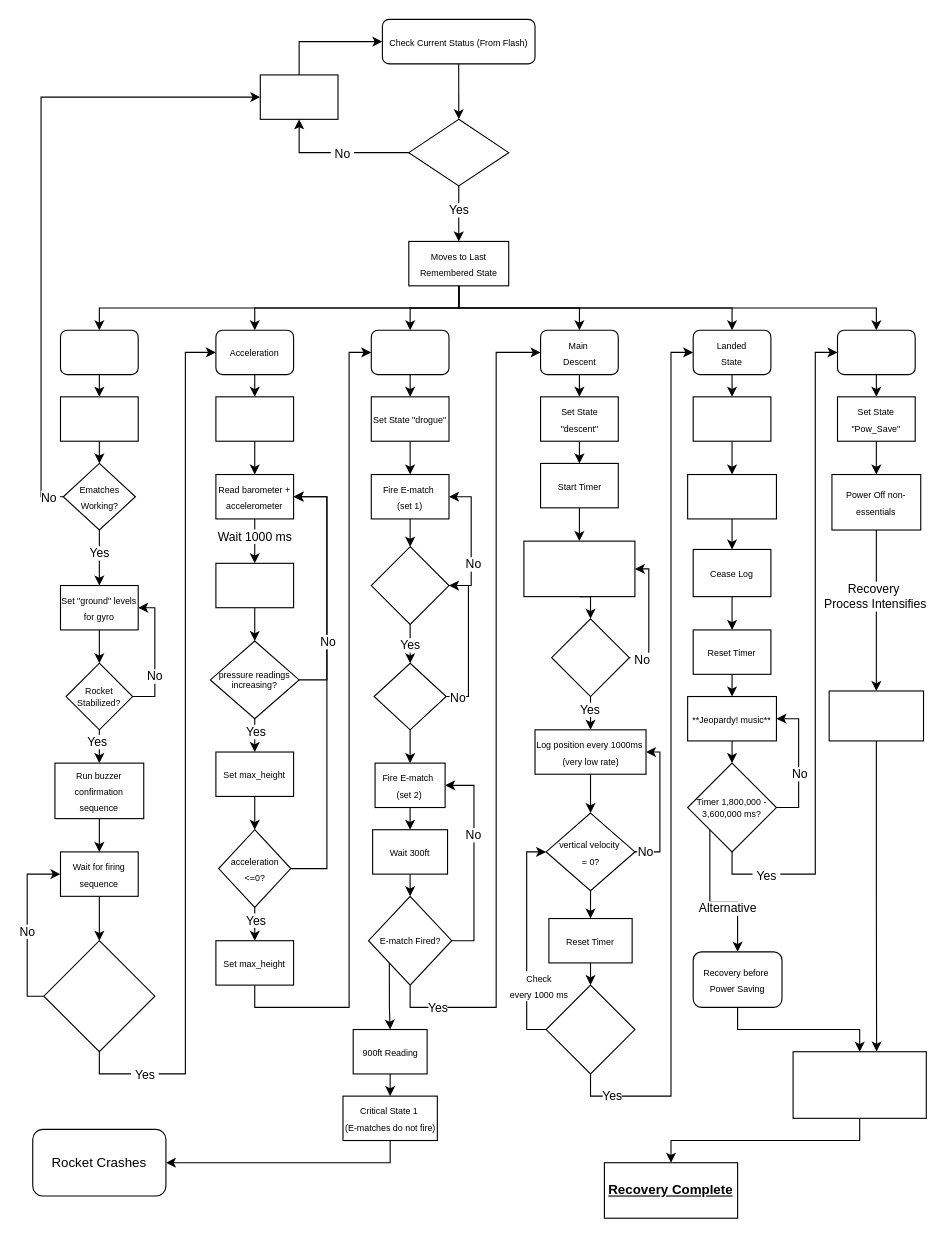
Some shapes in this 946 by 1238 pixel diagram are drawn without their labels. The shapes that lost their labels are listed below. From the top down, each one's centre as x and y in pixels, then its label:
point (298, 96): Abbort launch and diagnose problem
point (458, 152): System Power Confirmed?
point (98, 352): Launch Sequence
point (409, 352): Drogue Descent
point (875, 352): Power Saving
point (98, 418): Set State "launch"
point (254, 418): Set State "accel"
point (731, 418): Set State "landed"
point (731, 496): Write "Landed" to log
point (254, 585): Update max_height
point (409, 585): Drogue chute deployed?
point (579, 568): Log position every 500ms (low rate)
point (590, 657): Timer > 5000ms?
point (409, 696): Reached 1500ft?
point (876, 715): Radio Becon Begins?
point (99, 996): Rapid Change in Accelerometer Values?
point (590, 1029): Timer > 10,000ms?
point (859, 1084): System uses buzzer to indicate "max_height" value
